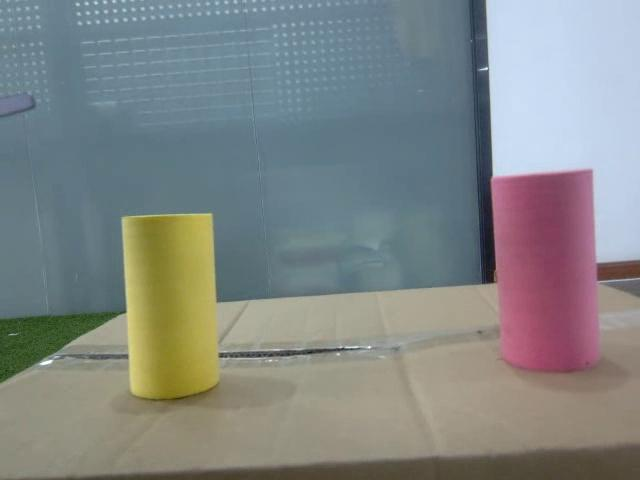red_cylinder: (490, 170, 602, 370)
yellow_cylinder: (120, 210, 224, 404)
